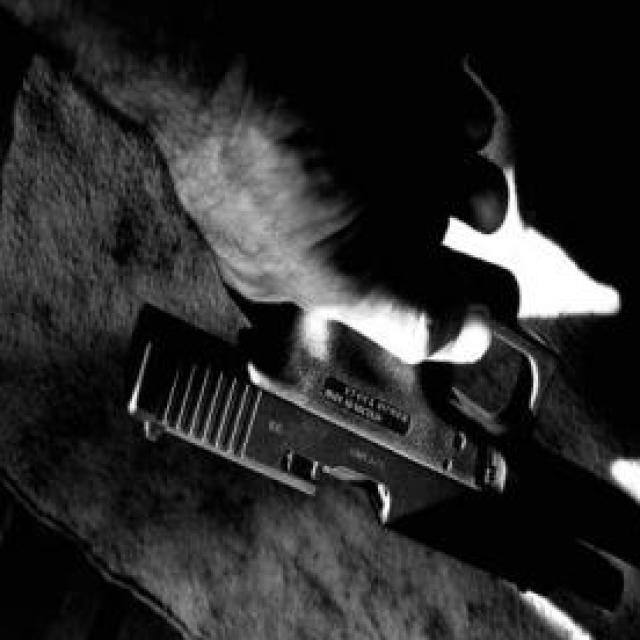pistol: (118, 274, 639, 640)
